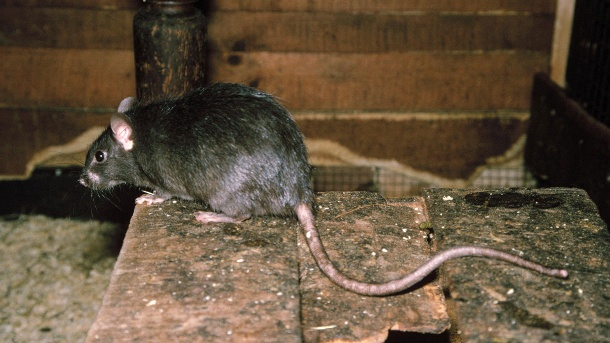rat: (63, 73, 332, 241)
